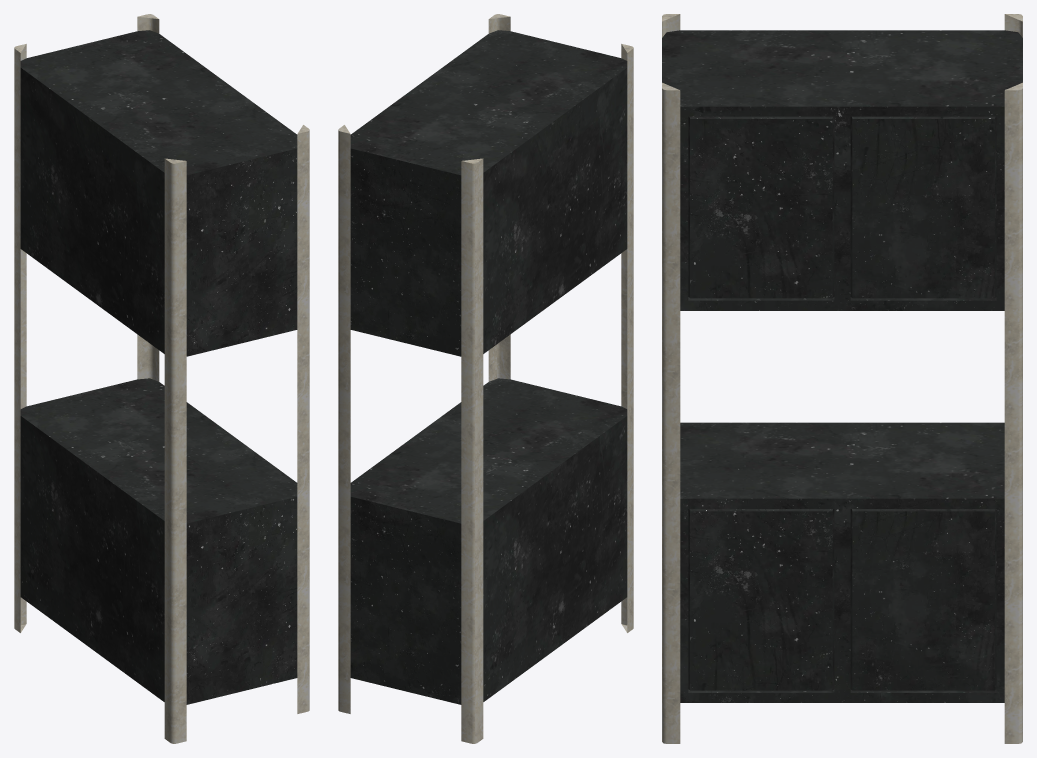
File: shelf3.glb
3 views of the same model, side by side, from view 1: azimuth 30°, elevation 25°; view 2: azimuth 150°, elevation 25°; view 3: azimuth 270°, elevation 25° (orthographic). The views are drawn at different scales.
Parts seen in each view (by area): view 1: shelf3; view 2: shelf3; view 3: shelf3.
Boxes of the visible parts, bbox=[...] form: shelf3: bbox=[14, 14, 309, 743]; shelf3: bbox=[338, 14, 633, 743]; shelf3: bbox=[662, 14, 1022, 743].
Size of the model in its own units: 0.5 by 2 by 1.
Materials: 2 (2 with a texture image).
